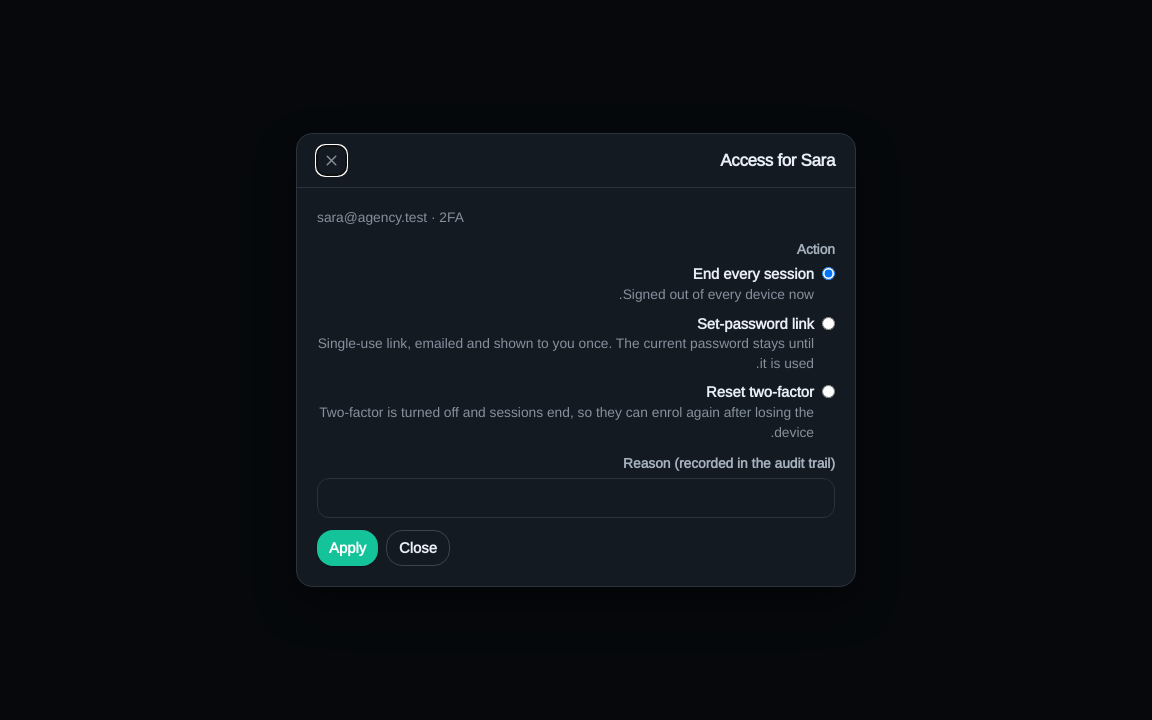
Test: UserAccessDialog › ends every session with only a reason
Type "Laptop stolen" into the field with test id "access-reason" at (576, 498), box [317,478,835,518]
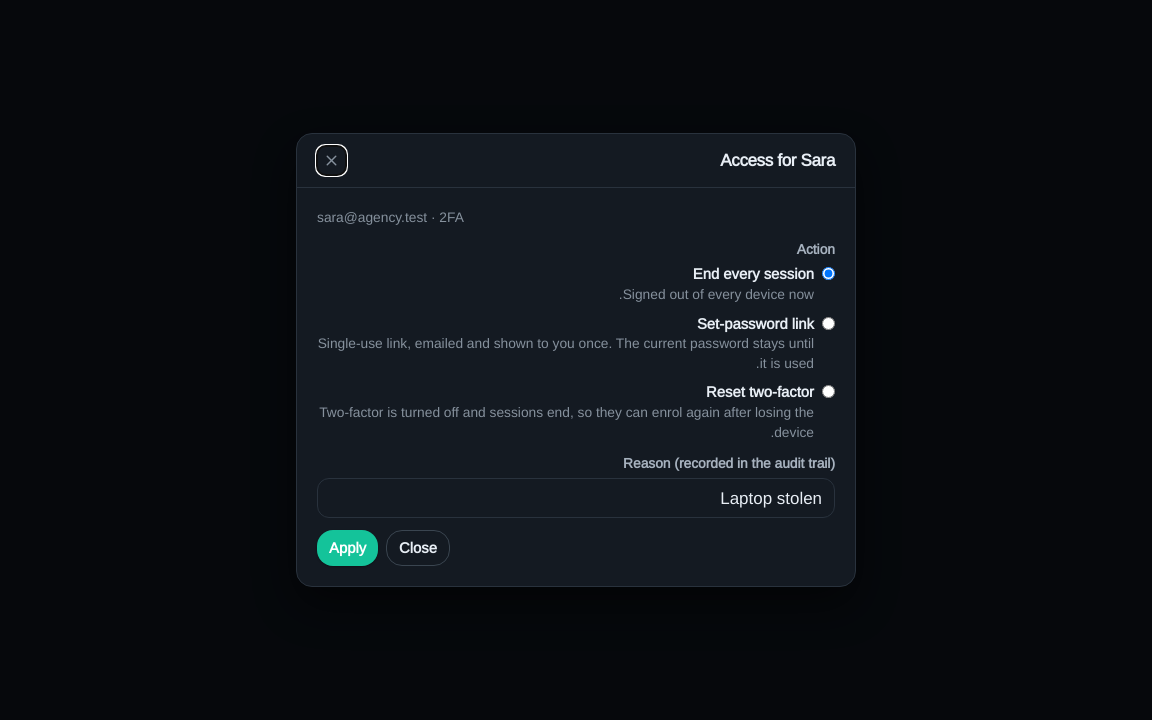
Click the button with test id "access-submit" at (348, 548), box [317,530,378,566]
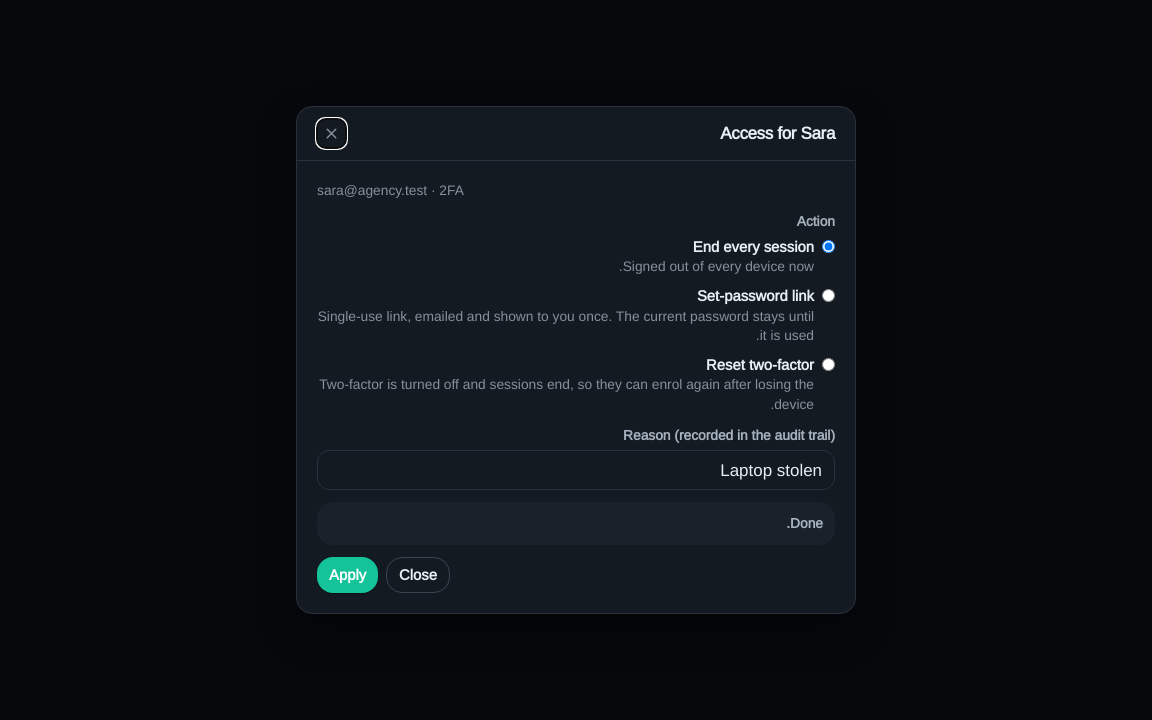
Expected: the element with test id "access-result" shows "Done", [786,515,823,531]
